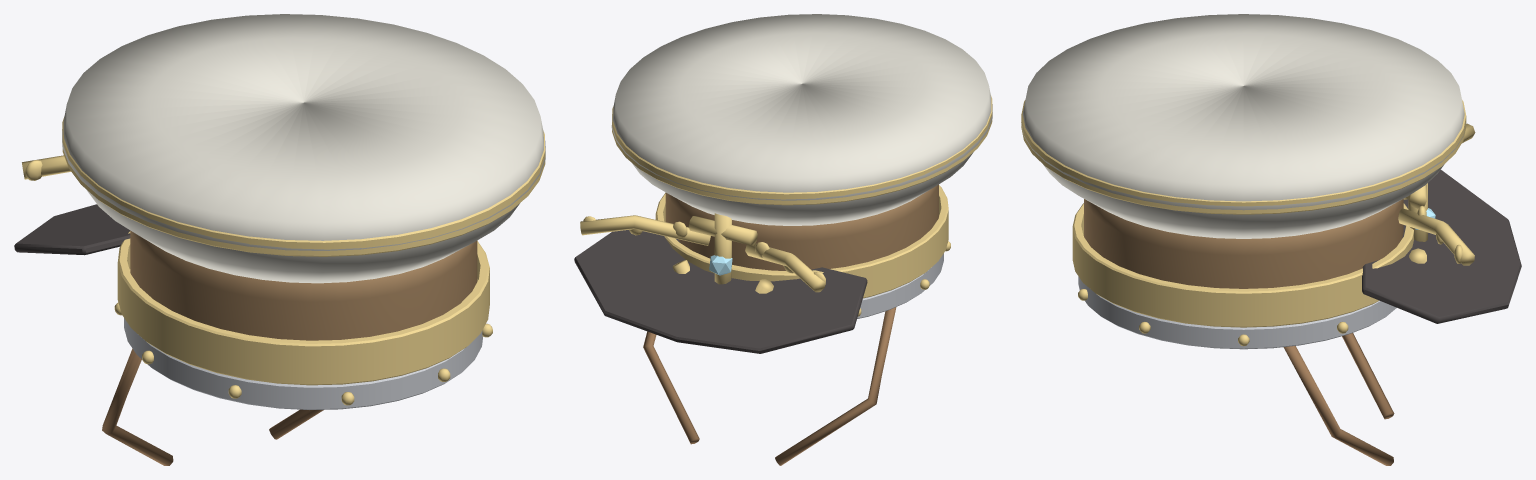
The model's file is valken_head.glb.
3 renders of one model, left to right at view 1: azimuth 30°, elevation 25°; view 2: azimuth 150°, elevation 25°; view 3: azimuth 270°, elevation 25°, orthographic. The views are drawn at different scales.
Visible parts, largest first — view 1: G_valken_head; view 2: G_valken_head; view 3: G_valken_head.
Part boxes in pixels (box(x1,y1,x2,y2)): G_valken_head: box(14, 14, 545, 465); G_valken_head: box(574, 14, 992, 465); G_valken_head: box(1021, 14, 1521, 465).
Bounding box in the file's own units: 0.3128 × 0.2981 × 0.3791.
